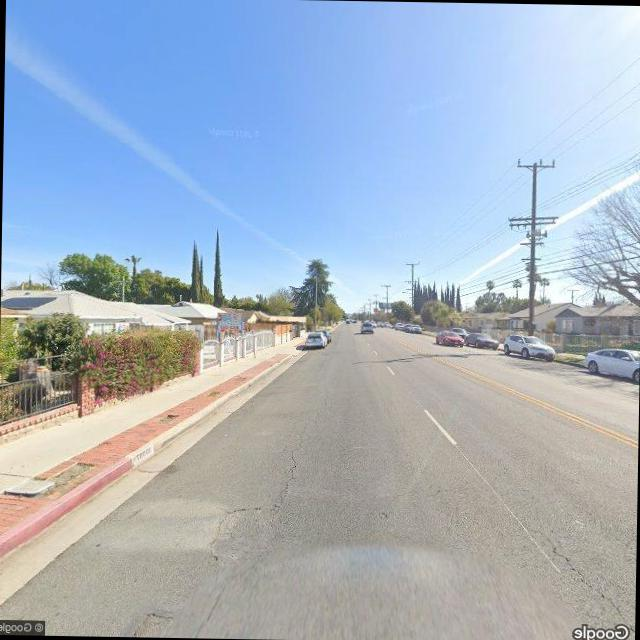crack: (206, 403, 318, 574), (522, 516, 626, 614)
